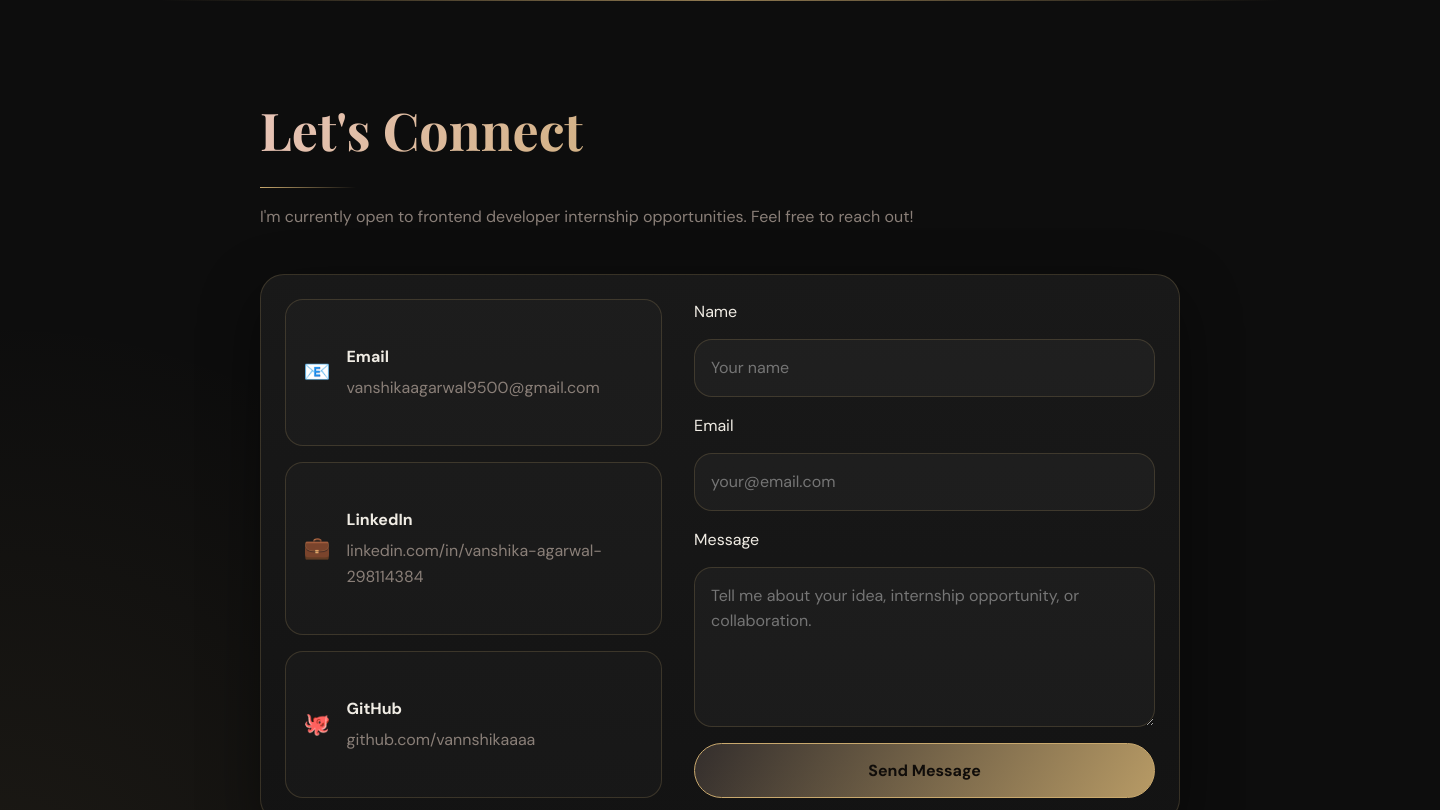
Contact › shows validation errors when submitting empty form
Click the button "Send Message".
click(925, 770)  # box [694, 743, 1155, 798]
(page scrolled)
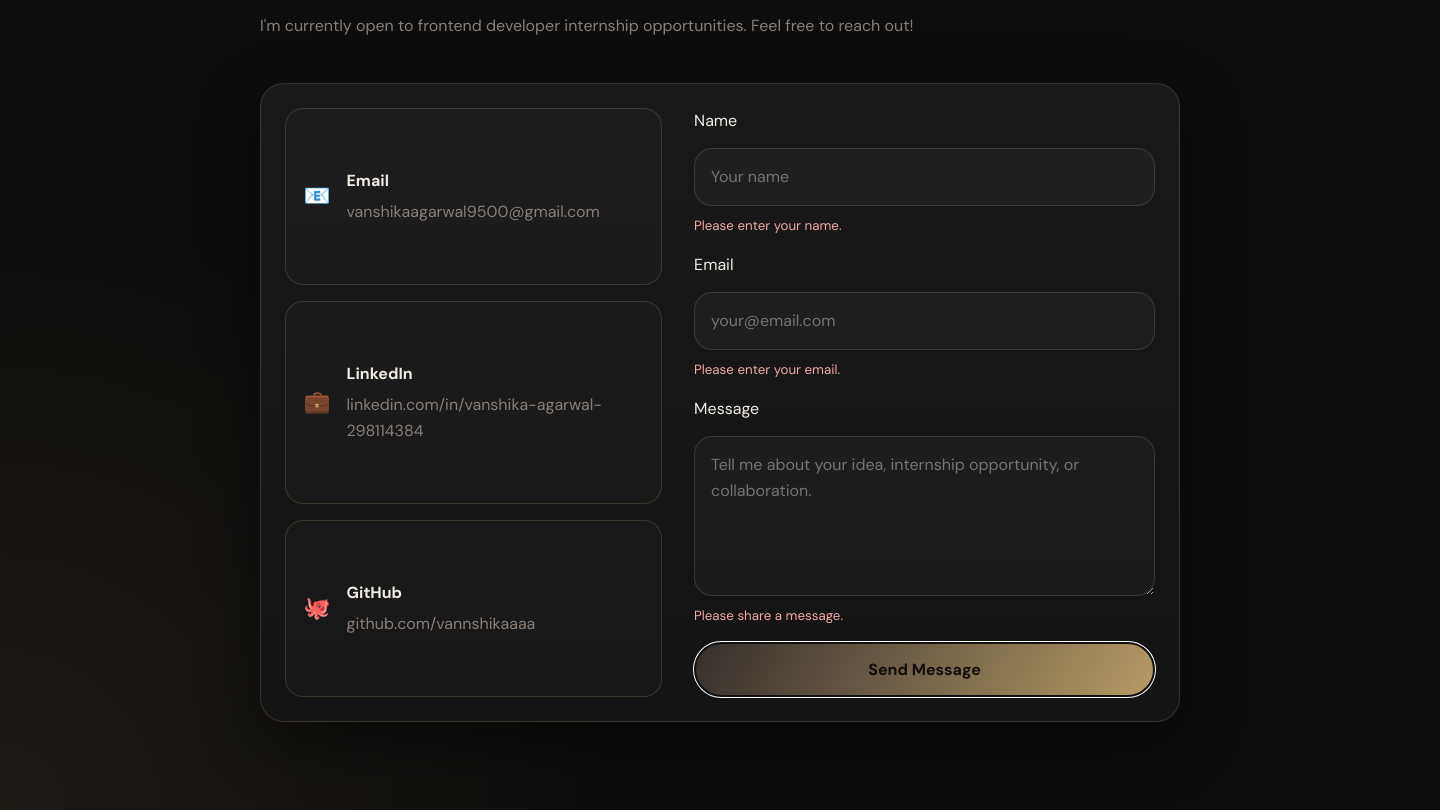
Expected: the text "Please enter your name." is shown, [694, 216, 842, 234]
Expected: the text "Please enter your email." is shown, [694, 361, 840, 378]
Expected: the text "Please share a message." is shown, [694, 607, 843, 624]
